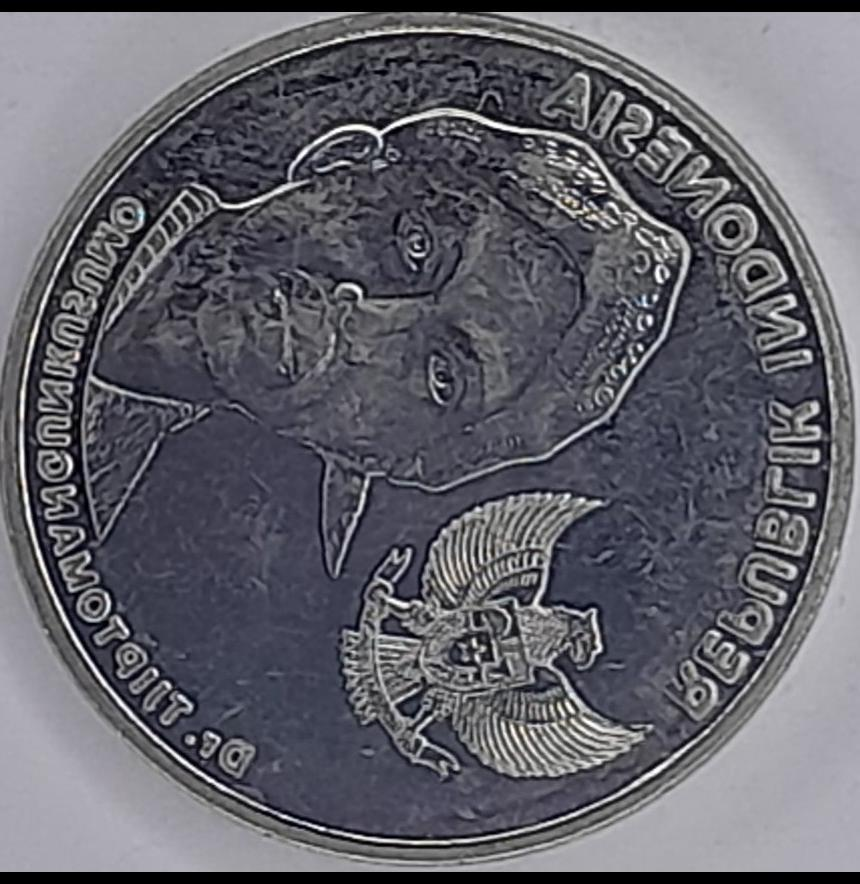coin_200_e2016: (0, 15, 860, 884)
